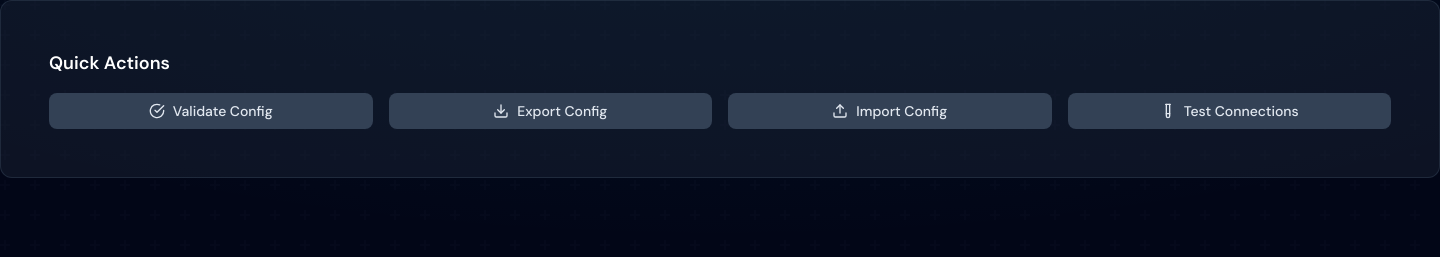
Test: ConfigQuickActions › shows validation warnings when present
Click the button "Validate Config" at (211, 111), box [49,93,372,129]
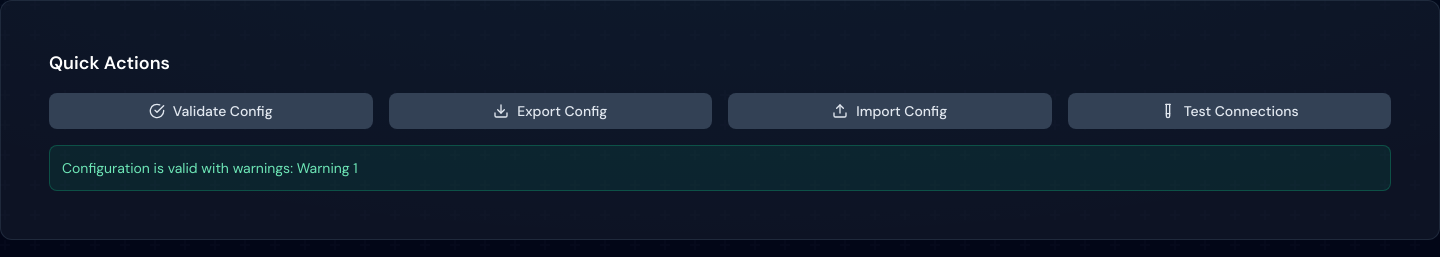
Check: the text "Configuration is valid with warnings: Warning 1" is shown, box [62,159,358,177]
